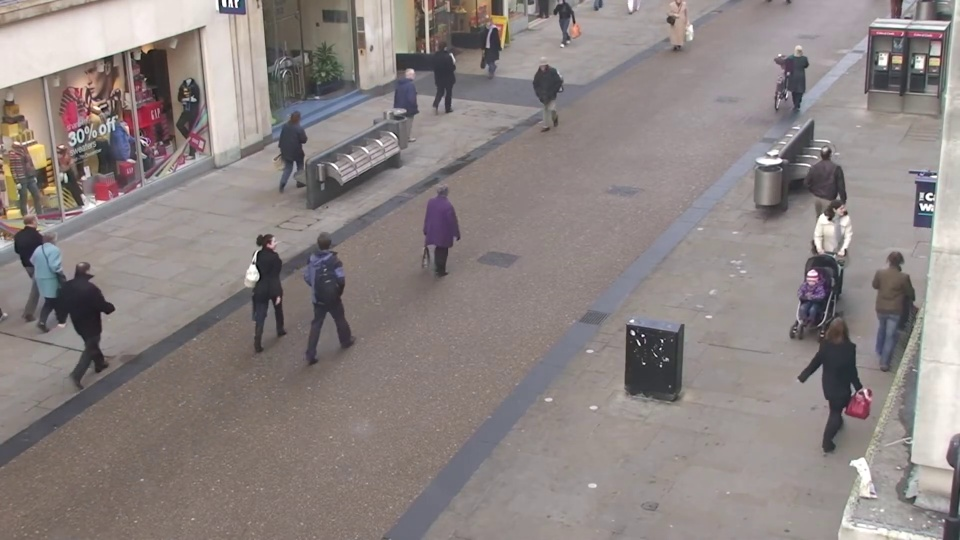pedestrian: (811, 305, 867, 452), (73, 245, 129, 372), (865, 240, 919, 371), (36, 218, 93, 338), (781, 264, 831, 400), (16, 203, 73, 320), (257, 220, 303, 342), (313, 220, 358, 343), (808, 200, 854, 319), (431, 175, 470, 287), (811, 135, 851, 238), (286, 103, 320, 194), (782, 40, 813, 117), (402, 64, 431, 145), (528, 58, 555, 137), (432, 36, 459, 109), (477, 16, 501, 84)
